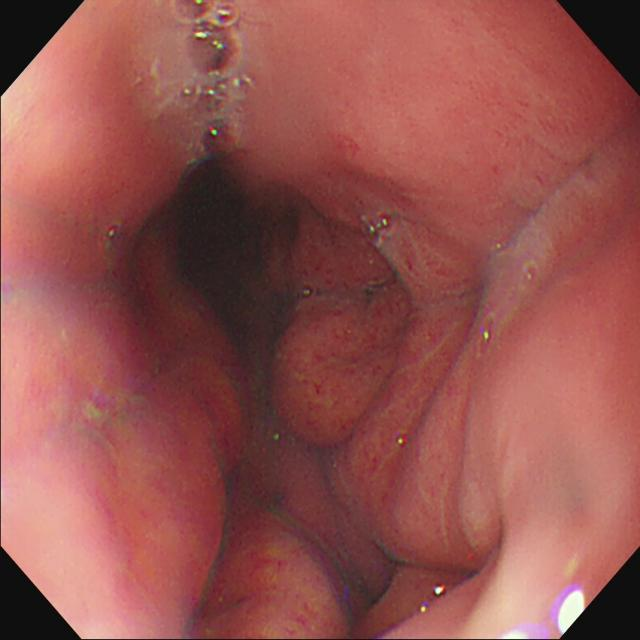A: (343, 338, 483, 574), (268, 300, 410, 447), (223, 506, 363, 640), (266, 211, 391, 285)
E: (175, 166, 256, 283)
T: (179, 2, 243, 158)
U: (559, 590, 586, 635)
